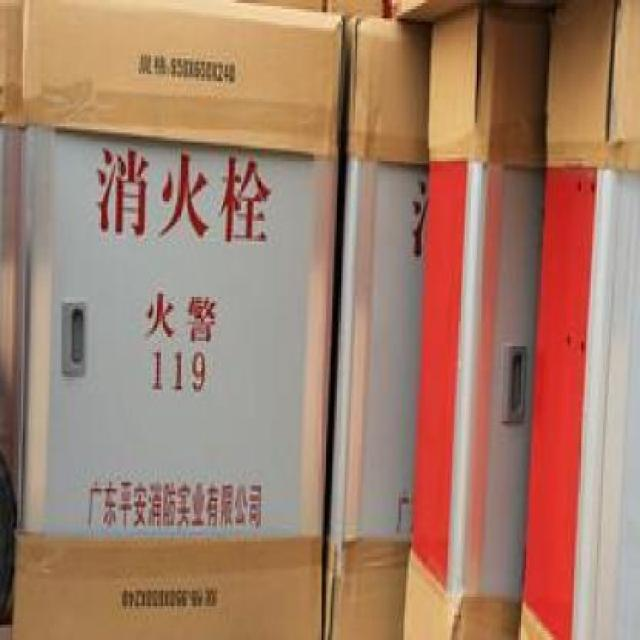firehydrant: (20, 0, 342, 640), (400, 4, 551, 640), (514, 0, 640, 640), (328, 9, 435, 640)
